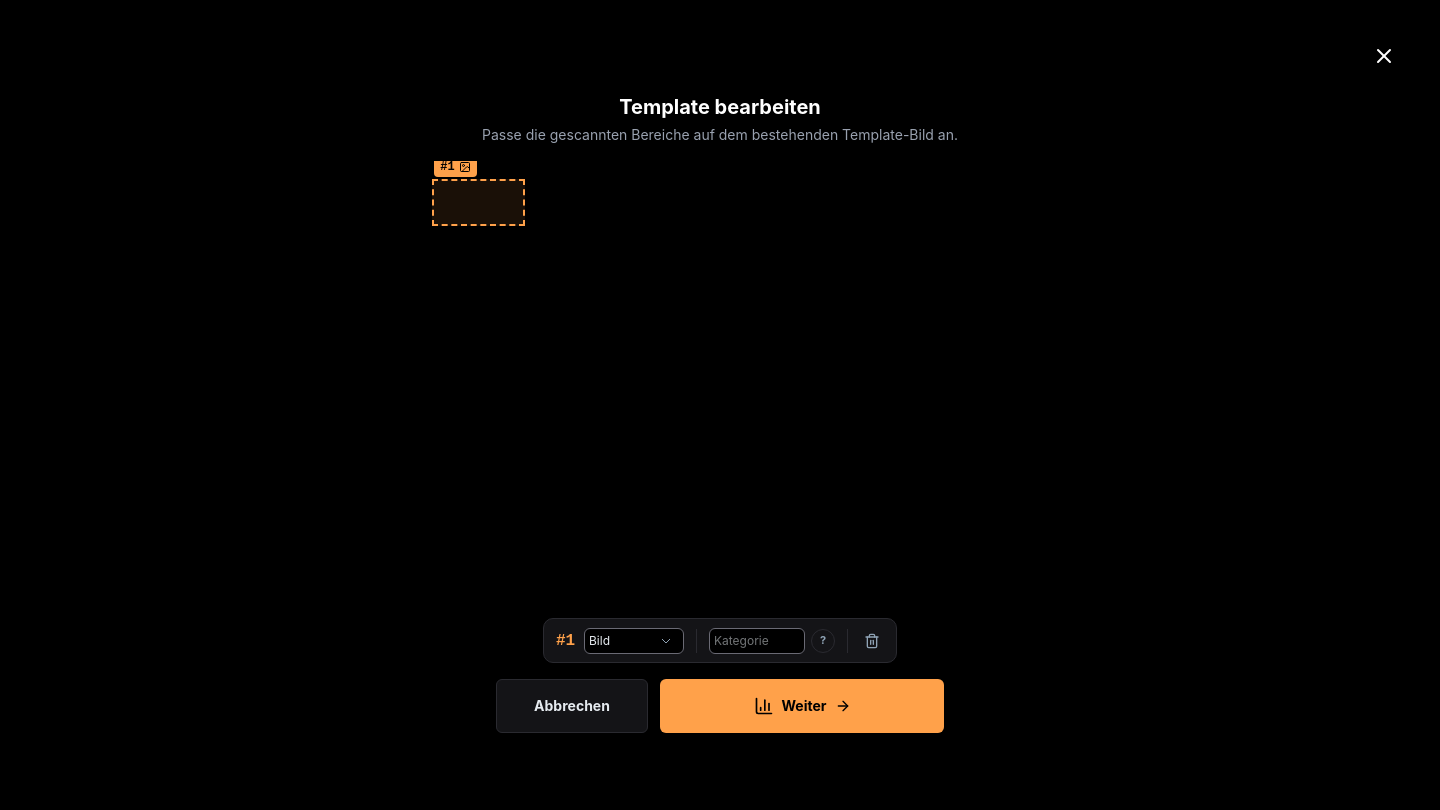
TemplateEditor › stability analysis panel › defaults the apply checkbox to unchecked for a poor rating
Expected: the number of buttons titled "Region löschen" is 1, 860,629 -> 884,653
Click the button "Weiter" at point(802, 706), box 660,679 -> 944,733
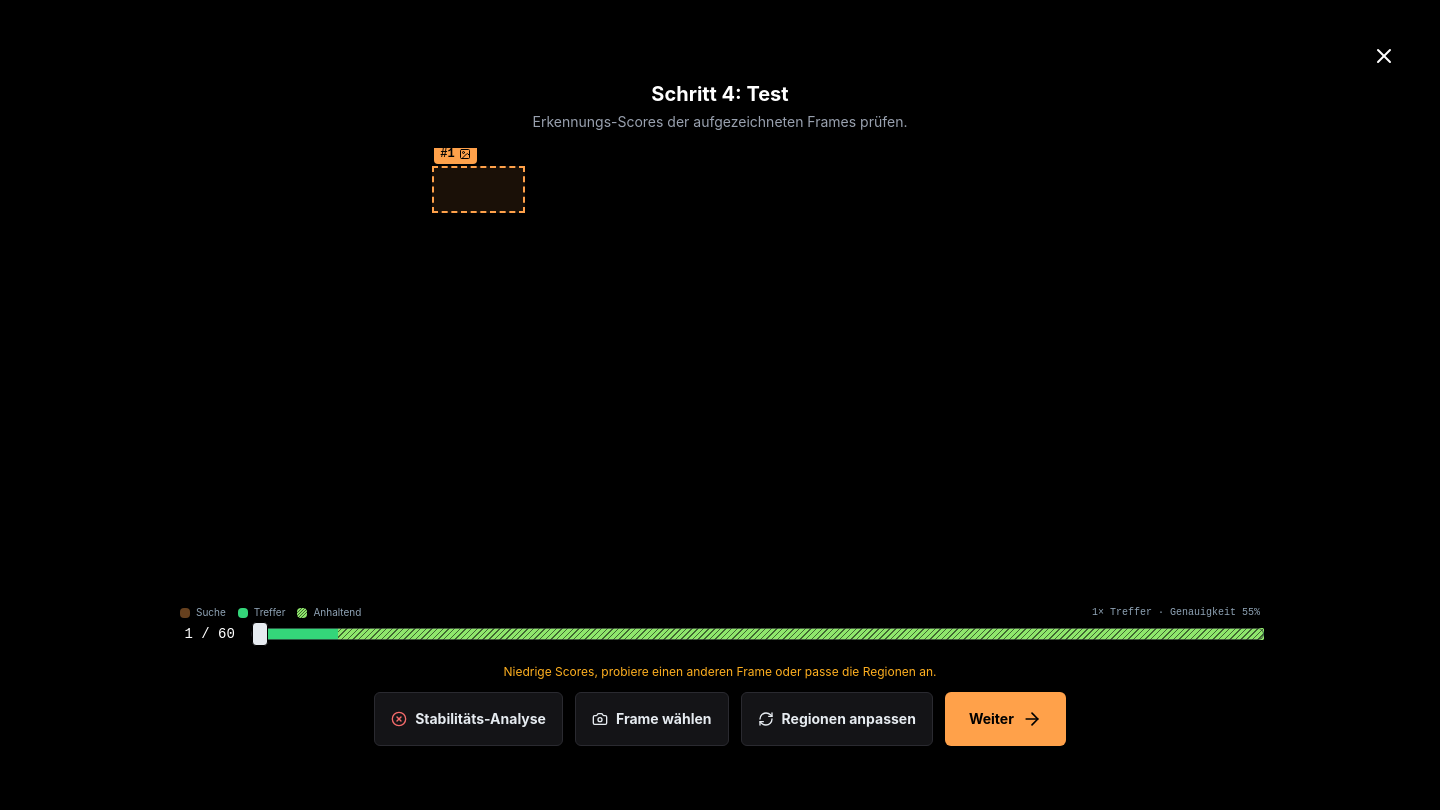
Now the button "Frame wählen" is shown, box 575,692 -> 728,746
Click the button named "Stabilitäts-Analyse:" at point(468, 719), box 374,692 -> 563,746
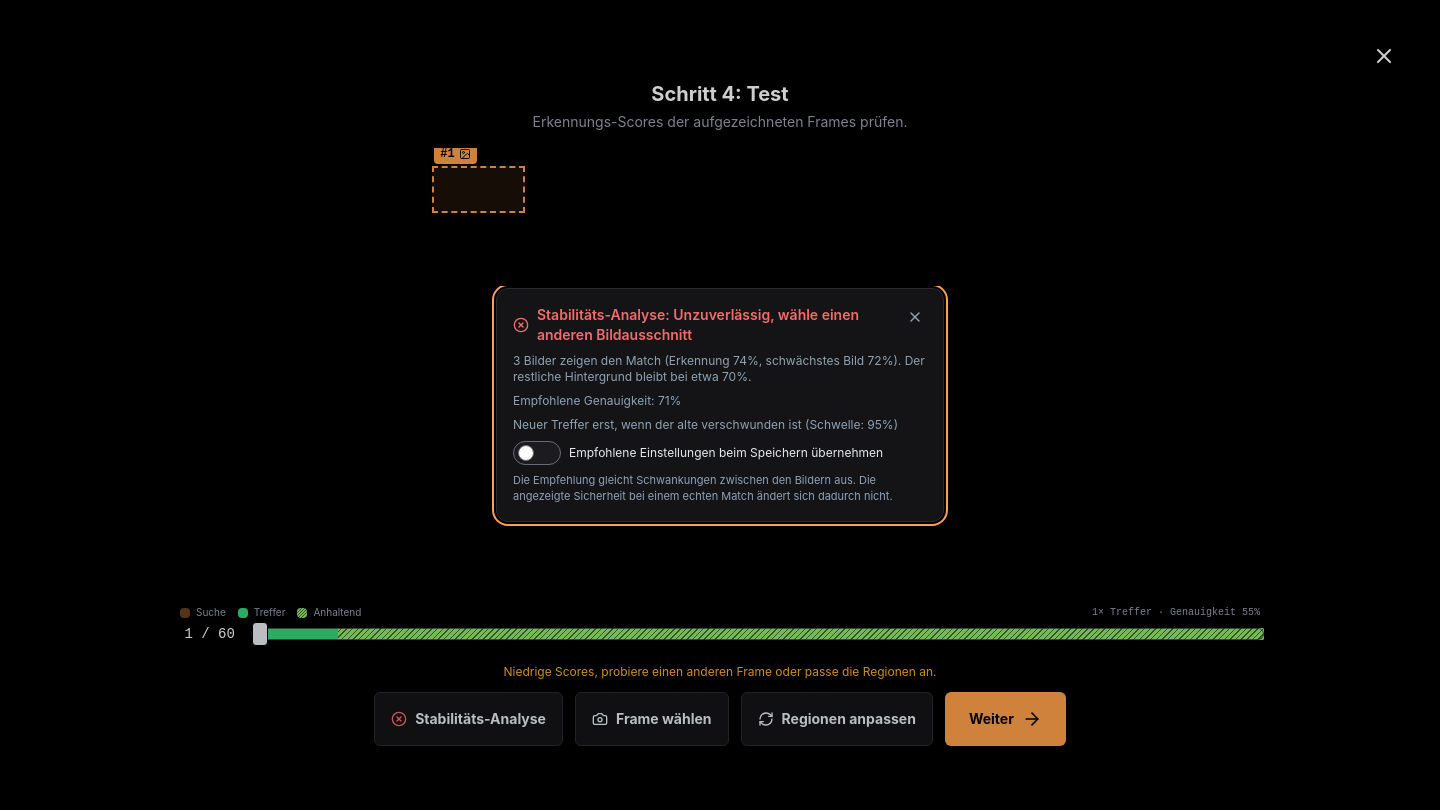
Now the text "Stabilitäts-Analyse: Unzuverlässig" is shown, box 537,305 -> 895,345
Now the switch named "Empfohlene Einstellungen beim Speichern übernehmen" is not checked, box 513,441 -> 561,465
